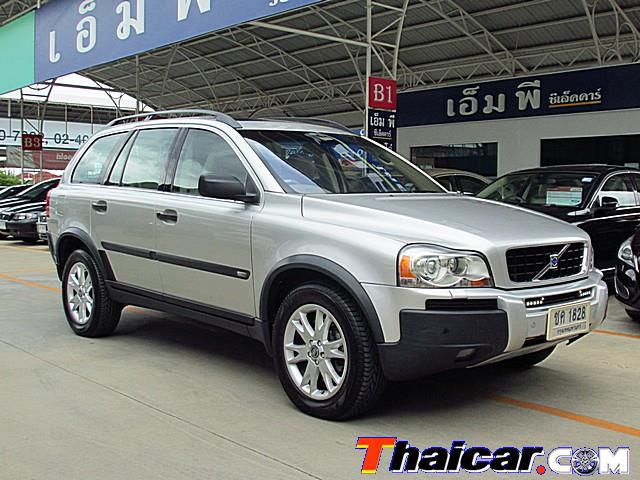pickup: (45, 110, 611, 424)
